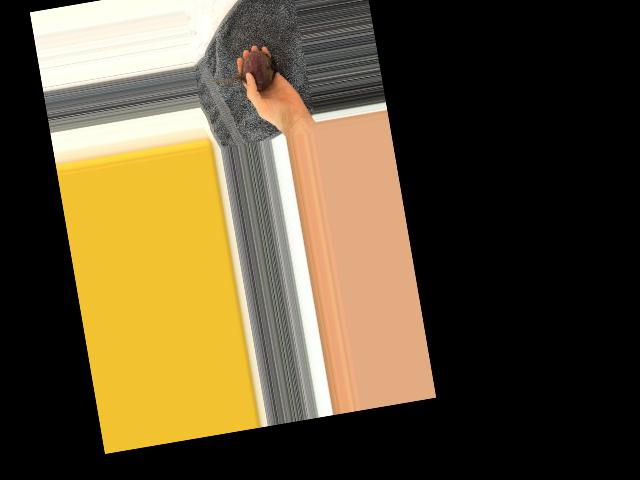beet: (208, 46, 280, 98)
